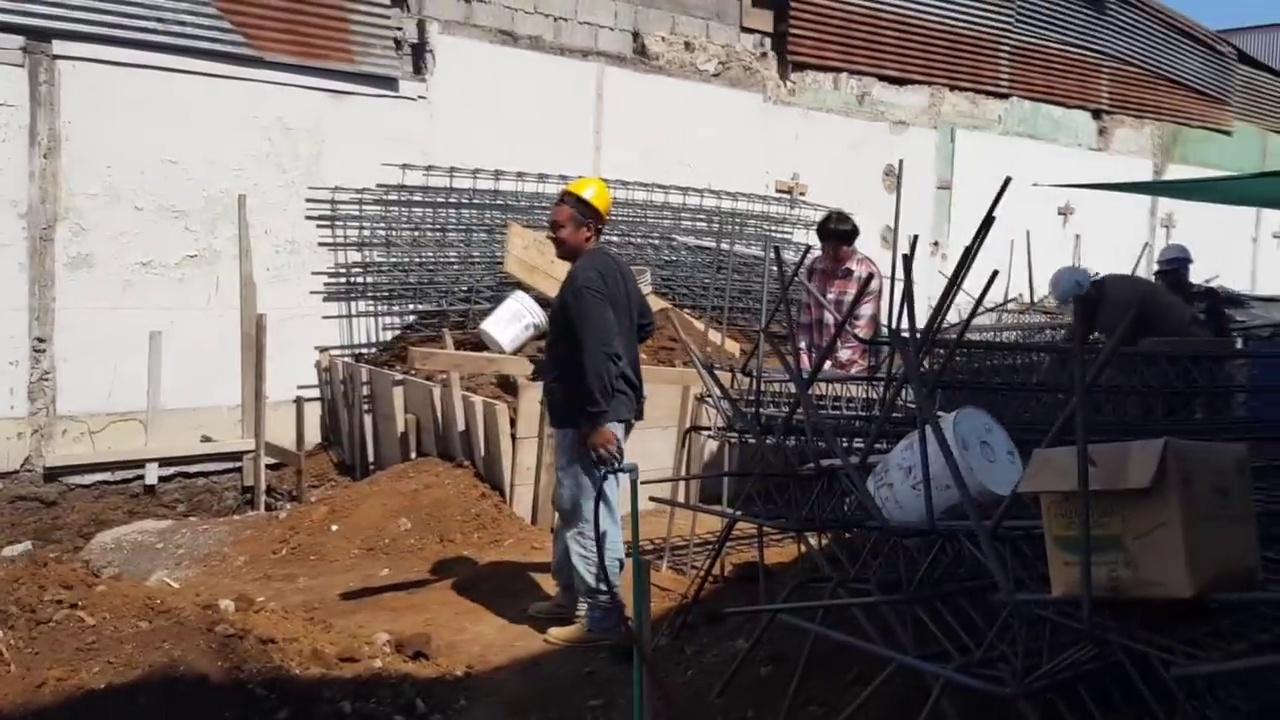helmet: (560, 174, 614, 219), (1048, 266, 1090, 299), (1153, 243, 1194, 264)
helmet-off: (816, 209, 860, 270)
helmet-on: (547, 175, 616, 255), (1048, 266, 1106, 315), (1154, 243, 1195, 296)
person: (532, 174, 654, 657), (795, 208, 883, 375), (1048, 266, 1205, 351), (1154, 242, 1230, 341)
